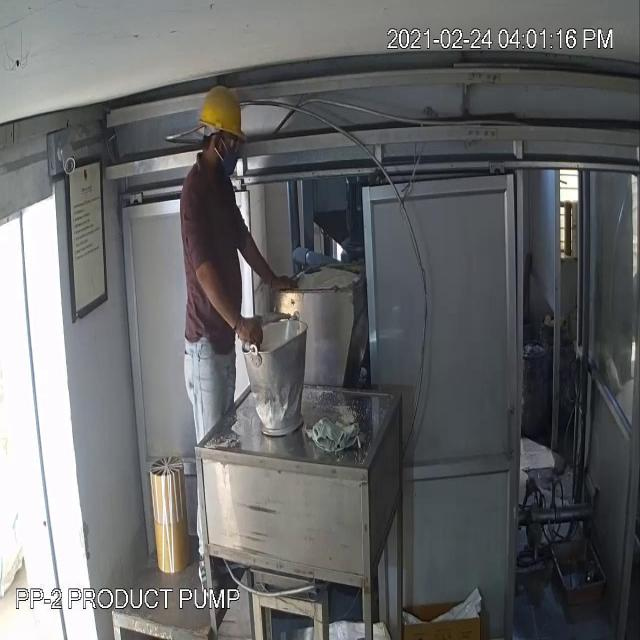helmet: (195, 85, 248, 148)
